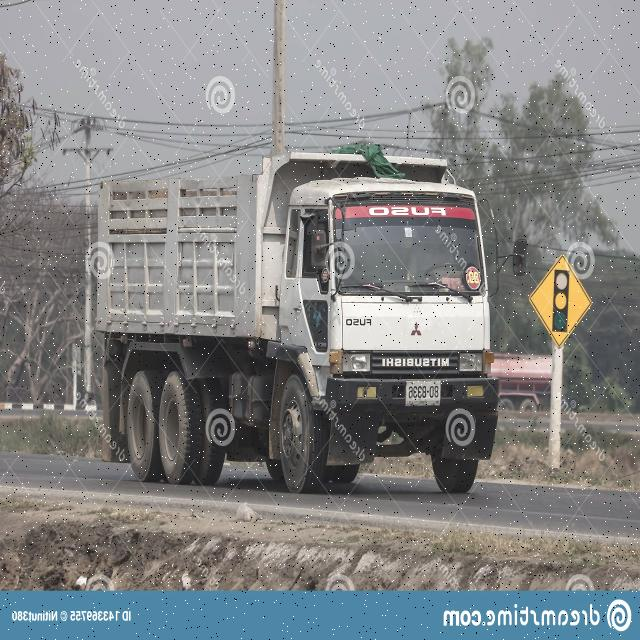truck: (95, 138, 528, 490)
